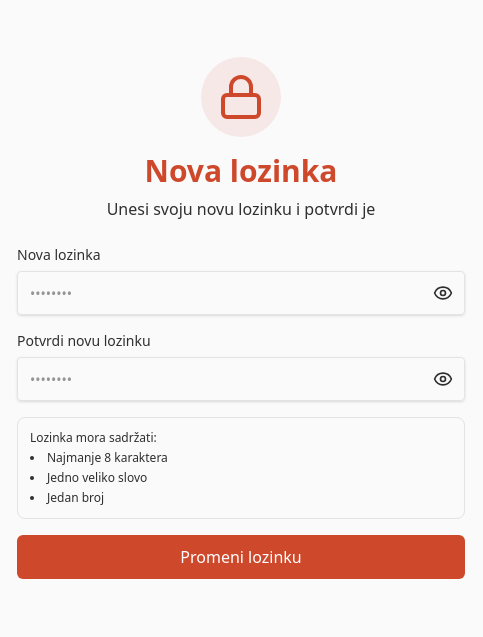
Test case: PasswordResetForm › shows default error message when no error provided
Type "NewPassword1" into the password field with placeholder "••••••••". click: (241, 293)
box: [17,271,465,315]
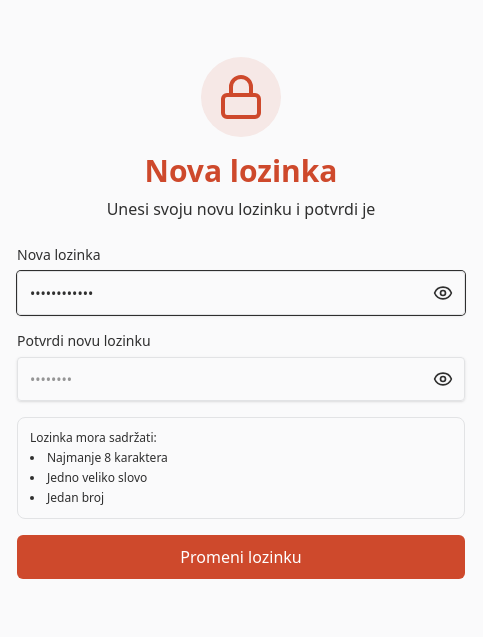
Type "NewPassword1" into the password field with placeholder "••••••••". click: (241, 379)
box: [17,357,465,401]
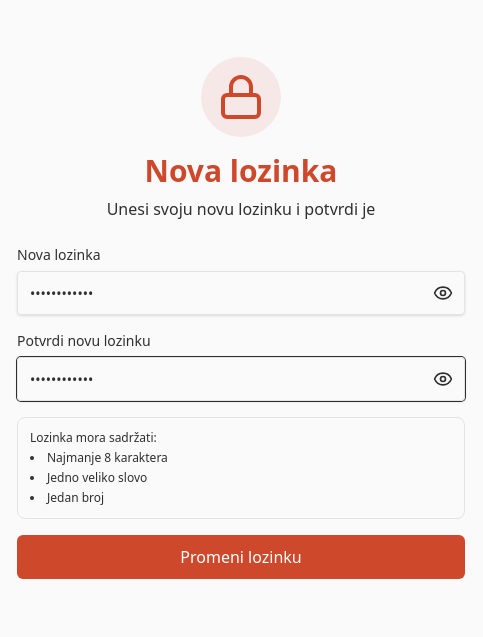
Click the button "Promeni lozinku". click: (241, 557)
box: [17,535,465,579]
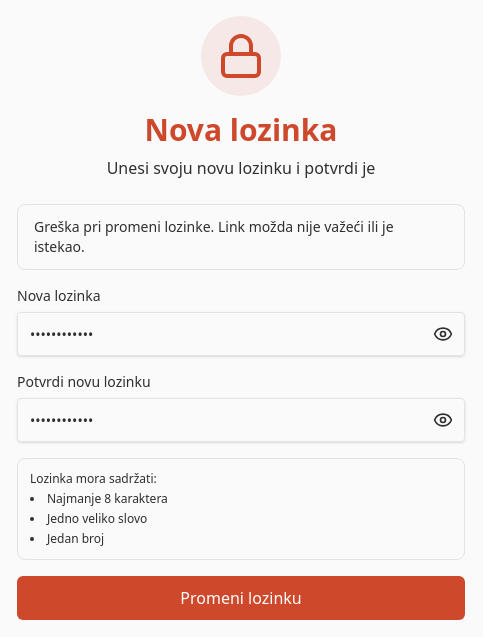
Result: the text "Greška pri promeni lozinke" is shown at [34,217,394,256]
